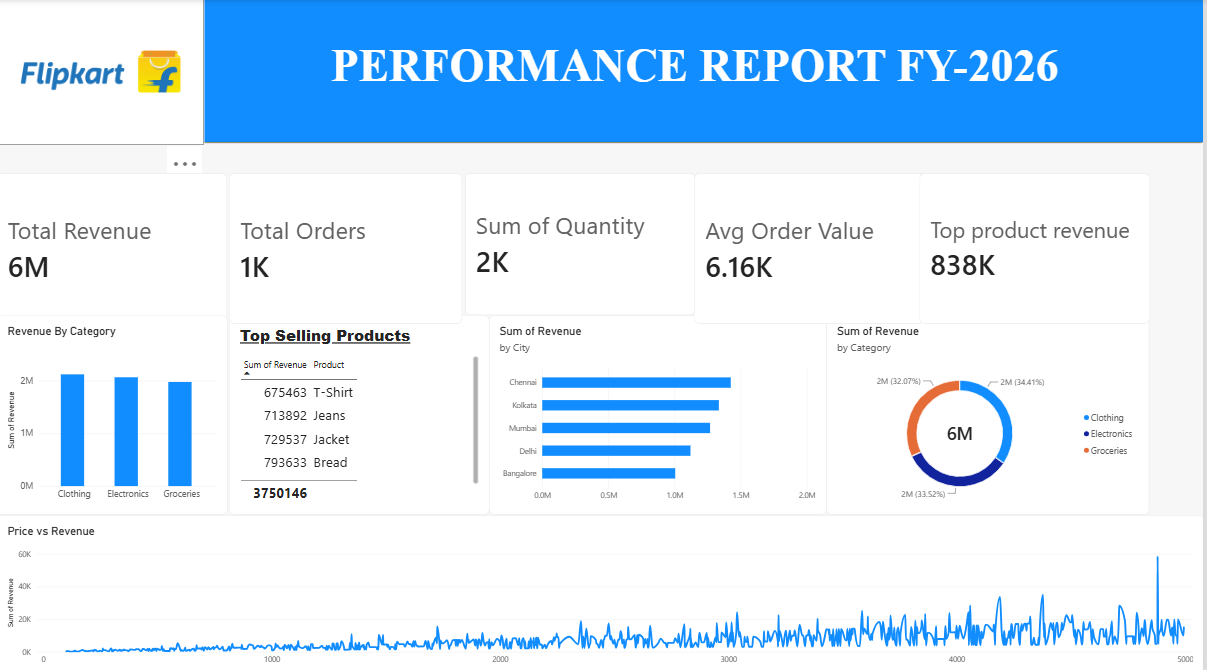

This screenshot's page, from the dashboard's own definition file:
{"tool":"powerbi","page":{"name":"Page 1","canvas":[1920,1080],"ordinal":0},"visuals":[{"type":"shape","box":[0,0,1921,229.3],"z":0},{"type":"image","box":[0,0,329.9,230.6],"z":1000},{"type":"textbox","box":[385.6,63.6,1447,95.4],"z":2000},{"type":"cardVisual","fields":{"Data":["Sum(1780981841717-clipkart_ecommerce_data (1).Revenue)"]},"box":[0,276.7,366.7,240],"z":3000},{"type":"lineChart","title":"Price vs Revenue","fields":{"Category":["1780981841717-clipkart_ecommerce_data (1).Price"],"Y":["Sum(1780981841717-clipkart_ecommerce_data (1).Revenue)"]},"box":[0,820,1920,260],"z":4000},{"type":"columnChart","title":"Revenue By Category","fields":{"Category":["1780981841717-clipkart_ecommerce_data (1).Category"],"Y":["Sum(1780981841717-clipkart_ecommerce_data (1).Revenue)"]},"box":[0,503.3,366.7,316.7],"z":5000},{"type":"tableEx","title":"Top Selling Products","fields":{"Values":["Sum(1780981841717-clipkart_ecommerce_data (1).Revenue)","1780981841717-clipkart_ecommerce_data (1).Product"]},"box":[370,503.3,413.3,316.7],"z":6000},{"type":"cardVisual","fields":{"Data":["CountNonNull(1780981841717-clipkart_ecommerce_data (1).Revenue)"]},"box":[370,276.7,370,240],"z":7000},{"type":"cardVisual","fields":{"Data":["Sum(1780981841717-clipkart_ecommerce_data (1).Quantity)"]},"box":[743.3,276.7,366.7,226.7],"z":8000},{"type":"clusteredBarChart","fields":{"Category":["1780981841717-clipkart_ecommerce_data (1).City"],"Y":["Sum(1780981841717-clipkart_ecommerce_data (1).Revenue)"]},"box":[783.3,503.3,536.7,316.7],"z":9000},{"type":"donutChart","fields":{"Category":["1780981841717-clipkart_ecommerce_data (1).Category"],"Y":["Sum(1780981841717-clipkart_ecommerce_data (1).Revenue)"]},"box":[1320,503.3,513.3,316.7],"z":10000},{"type":"cardVisual","fields":{"Data":["1780981841717-clipkart_ecommerce_data (1).Avg Order Value"]},"box":[1110,276.7,366.7,240],"z":11000},{"type":"cardVisual","fields":{"Data":["1780981841717-clipkart_ecommerce_data (1).Top product revenue"]},"box":[1466.7,276.7,366.7,240],"z":11001}]}

Visuals, with their boxes on the page's 1920x1080 design canvas (x1, y1, x2, y2). These are canvas units, not pixel positions in the 1207x670 screenshot, which may show the page scaled, cropped or inside an application window:
shape: {"x1": 0, "y1": 0, "x2": 1921, "y2": 229}
image: {"x1": 0, "y1": 0, "x2": 330, "y2": 231}
textbox: {"x1": 386, "y1": 64, "x2": 1833, "y2": 159}
cardVisual - Sum(1780981841717-clipkart_ecommerce_data (1).Revenue): {"x1": 0, "y1": 277, "x2": 367, "y2": 517}
"Price vs Revenue" lineChart: {"x1": 0, "y1": 820, "x2": 1920, "y2": 1080}
"Revenue By Category" columnChart: {"x1": 0, "y1": 503, "x2": 367, "y2": 820}
"Top Selling Products" tableEx: {"x1": 370, "y1": 503, "x2": 783, "y2": 820}
cardVisual - CountNonNull(1780981841717-clipkart_ecommerce_data (1).Revenue): {"x1": 370, "y1": 277, "x2": 740, "y2": 517}
cardVisual - Sum(1780981841717-clipkart_ecommerce_data (1).Quantity): {"x1": 743, "y1": 277, "x2": 1110, "y2": 503}
clusteredBarChart - 1780981841717-clipkart_ecommerce_data (1).City x Sum(1780981841717-clipkart_ecommerce_data (1).Revenue): {"x1": 783, "y1": 503, "x2": 1320, "y2": 820}
donutChart - 1780981841717-clipkart_ecommerce_data (1).Category x Sum(1780981841717-clipkart_ecommerce_data (1).Revenue): {"x1": 1320, "y1": 503, "x2": 1833, "y2": 820}
cardVisual - 1780981841717-clipkart_ecommerce_data (1).Avg Order Value: {"x1": 1110, "y1": 277, "x2": 1477, "y2": 517}
cardVisual - 1780981841717-clipkart_ecommerce_data (1).Top product revenue: {"x1": 1467, "y1": 277, "x2": 1833, "y2": 517}
